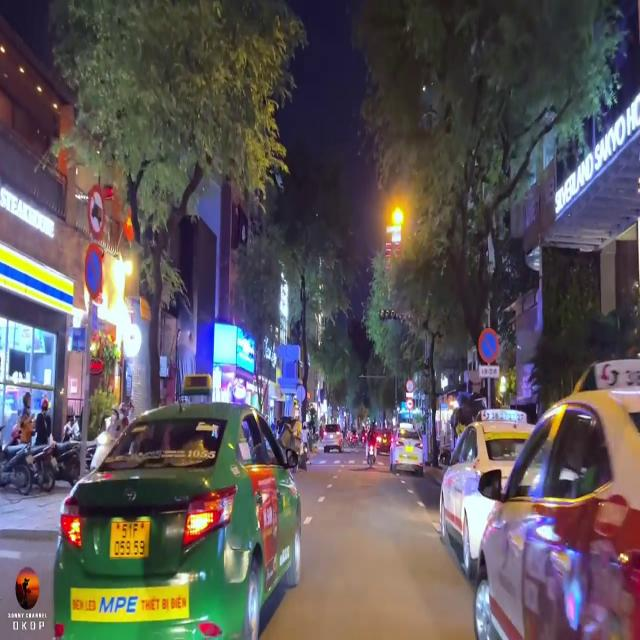bien_vang: (108, 519, 154, 560)
